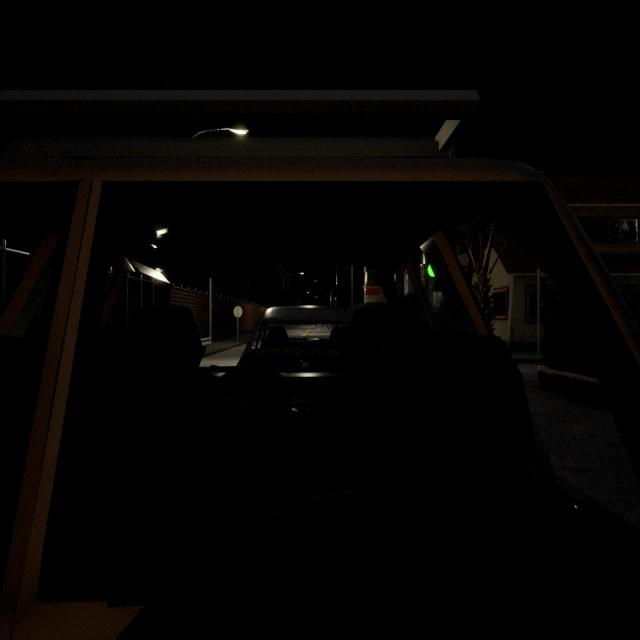Traffic_Signs: (233, 306, 243, 318)
Vehicle: (0, 80, 638, 640), (239, 302, 380, 378)
traffic_light: (425, 242, 440, 298), (537, 270, 548, 308)
